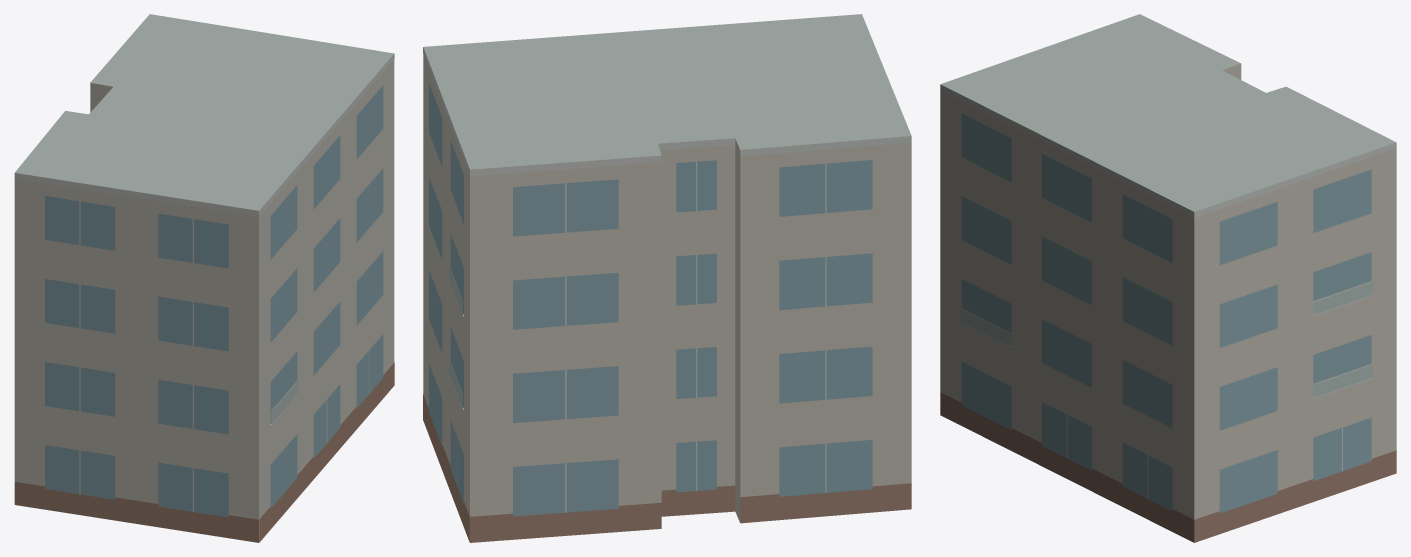
Rendered from survey-upis-32646866.glb.
3 renders of one model, left to right at view 1: azimuth 30°, elevation 25°; view 2: azimuth 150°, elevation 25°; view 3: azimuth 270°, elevation 25°, orthographic. The views are drawn at different scales.
Visible parts, largest first — view 1: survey-upis-32646866.tmp; view 2: survey-upis-32646866.tmp; view 3: survey-upis-32646866.tmp.
Boxes of the visible parts, x1,y1,x2,y2 form: survey-upis-32646866.tmp: (14, 14, 394, 542); survey-upis-32646866.tmp: (423, 14, 911, 542); survey-upis-32646866.tmp: (940, 14, 1396, 542).
Size of the model in its own units: 17.33 by 13.5 by 16.89.
